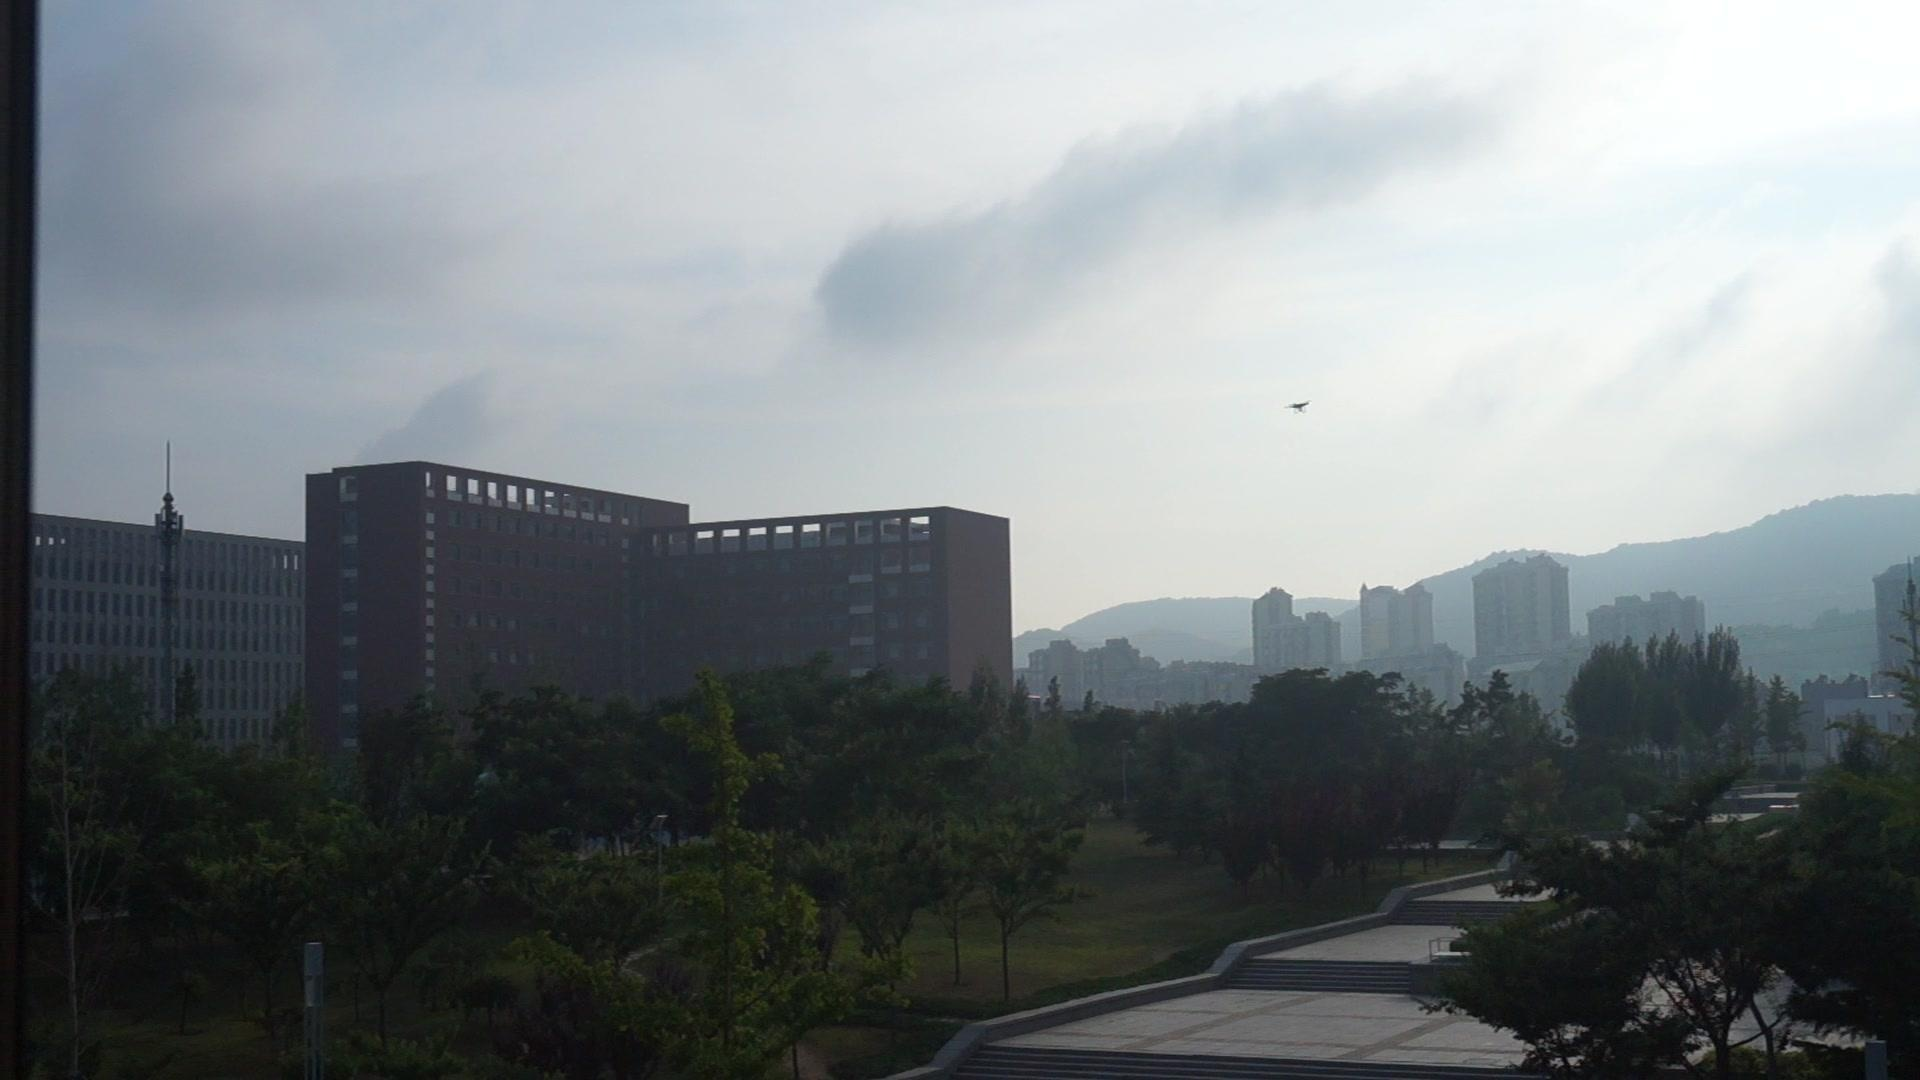UAV: (1284, 401, 1312, 414)
